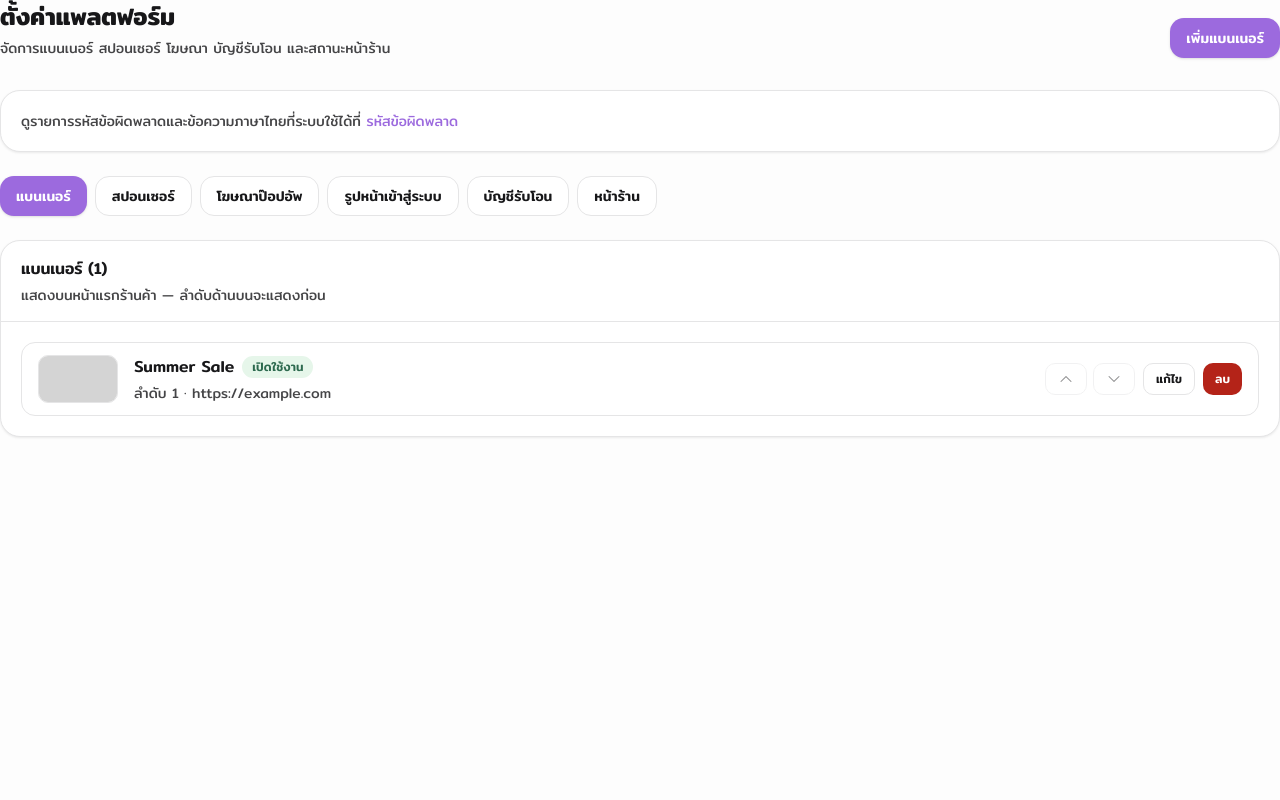
Test case: AdminPlatformSettingsPage › opens the create banner dialog from the header action
Click the button "เพิ่มแบนเนอร์".
click(1225, 38)  # box x1=1170 y1=18 x2=1279 y2=58
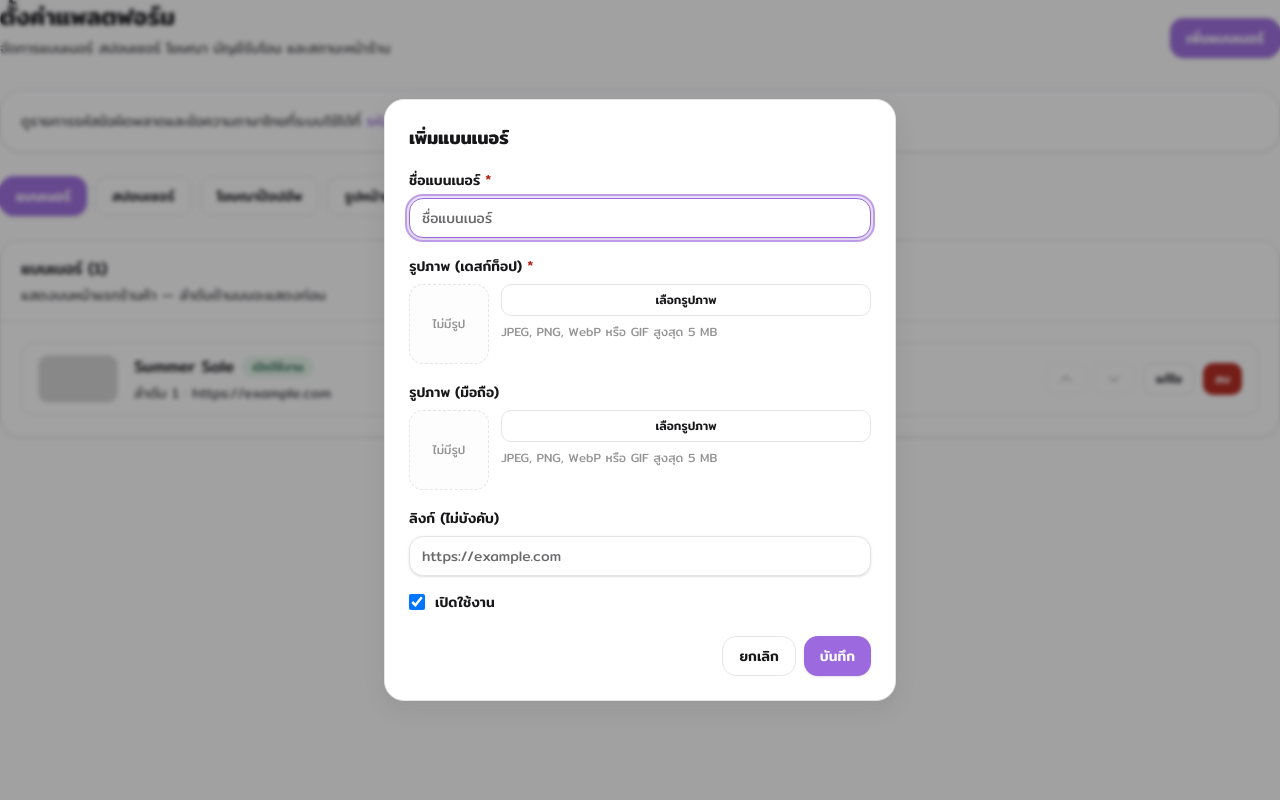
Check: the dialog is shown, box x1=384 y1=99 x2=896 y2=701
Check: the heading "เพิ่มแบนเนอร์" is shown, box x1=409 y1=123 x2=508 y2=152
Check: the field labelled "ชื่อแบนเนอร์ *" is shown, box x1=409 y1=198 x2=871 y2=238
